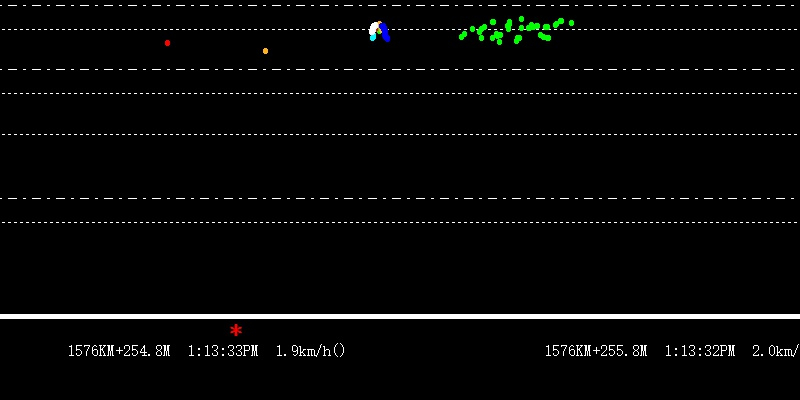face_2: (368, 19, 391, 42)
star: (230, 321, 244, 338)
